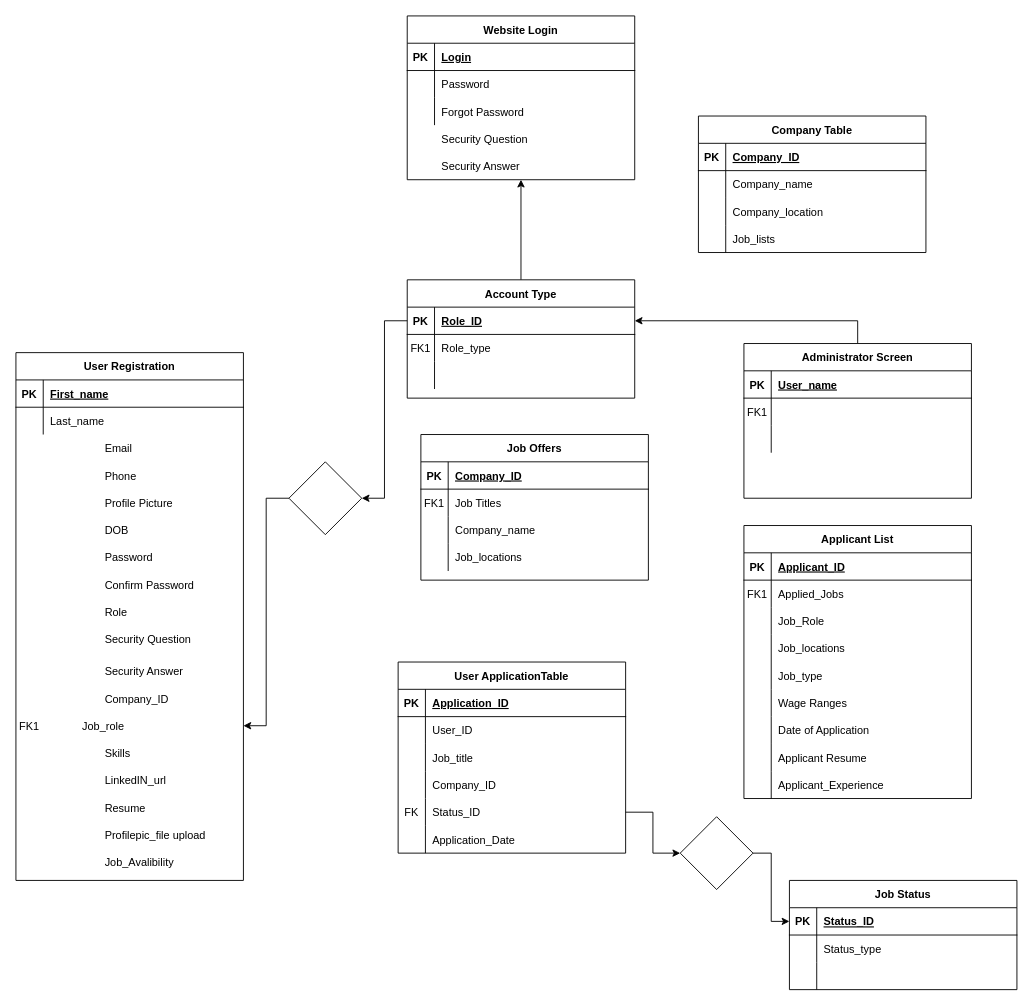
This 1033x1006 diagram has some shape labels left out. Here are the shapes that lost their labels. From the top down, the centre of each, then its label:
the point at 325,498: Leads
the point at 716,853: Requires
